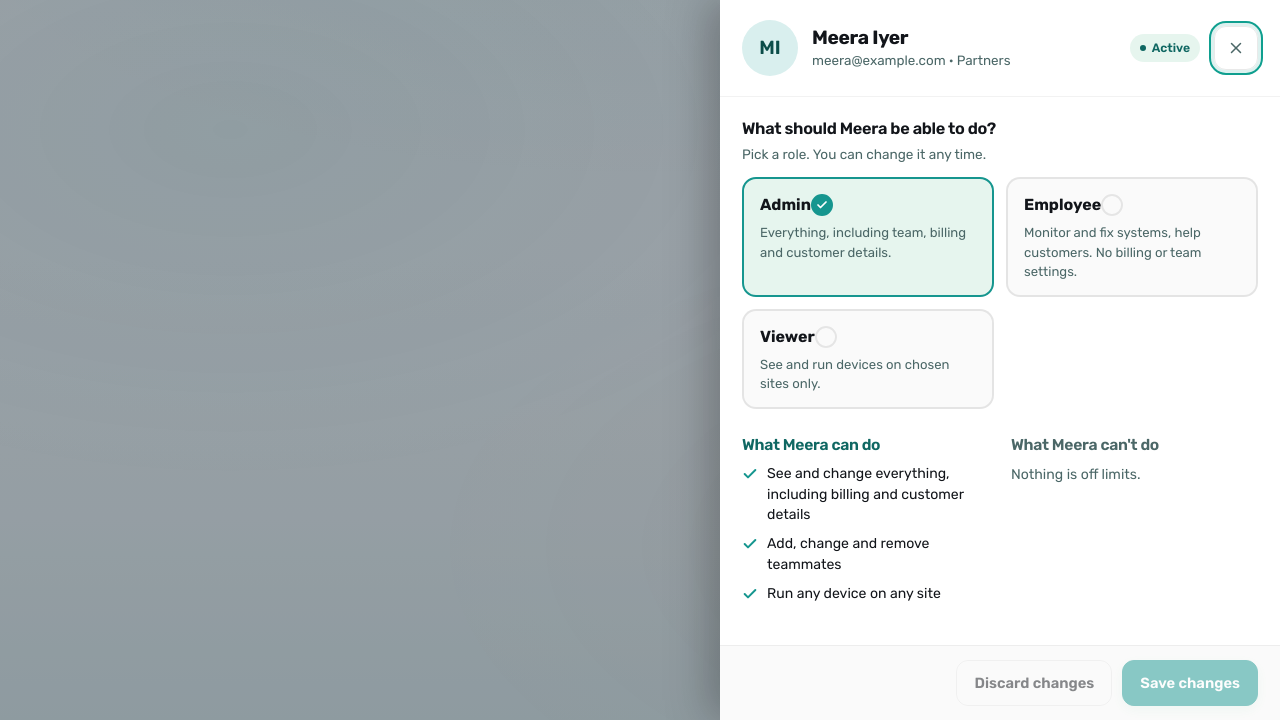
Scenario: PersonPanel › Device operations switch › is hidden for an admin and comes back when the role changes
Expected: the switch labelled "device operations" is not shown
Click the radio button labelled "Employee" at (1132, 237), box x1=1006 y1=178 x2=1258 y2=297
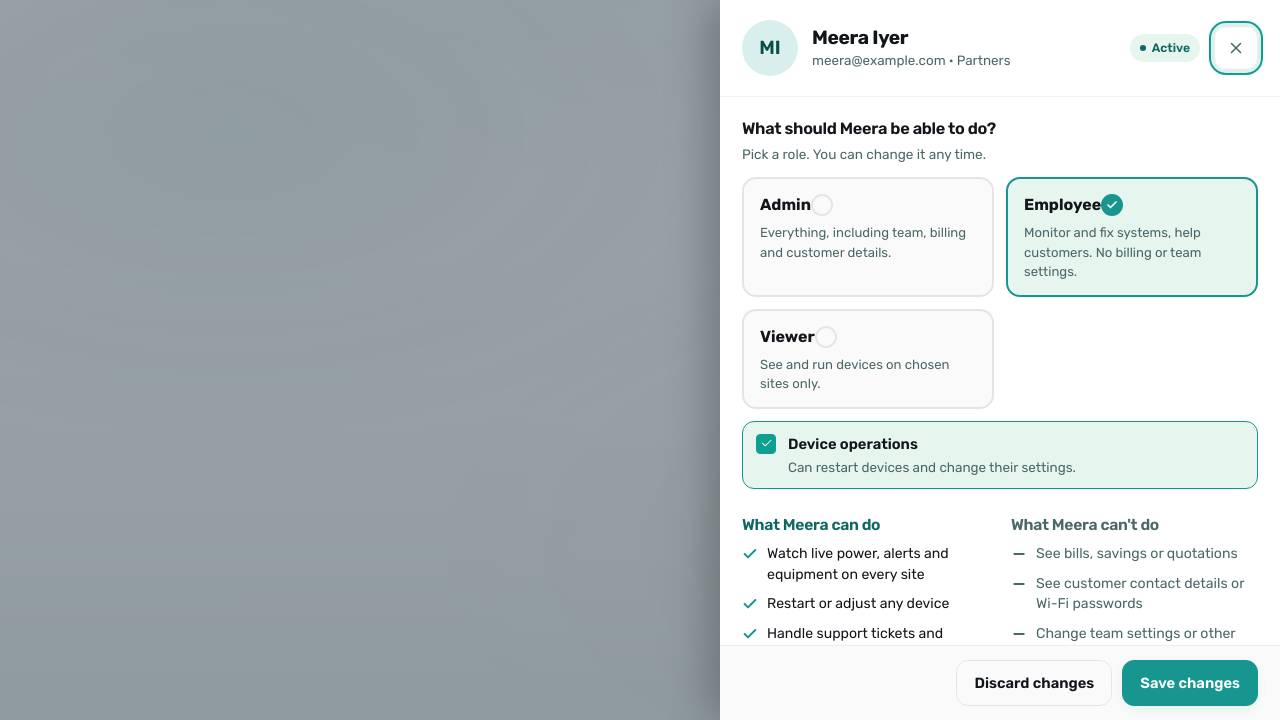
Expected: the switch labelled "Device operations" is checked, x1=756 y1=434 x2=776 y2=454
